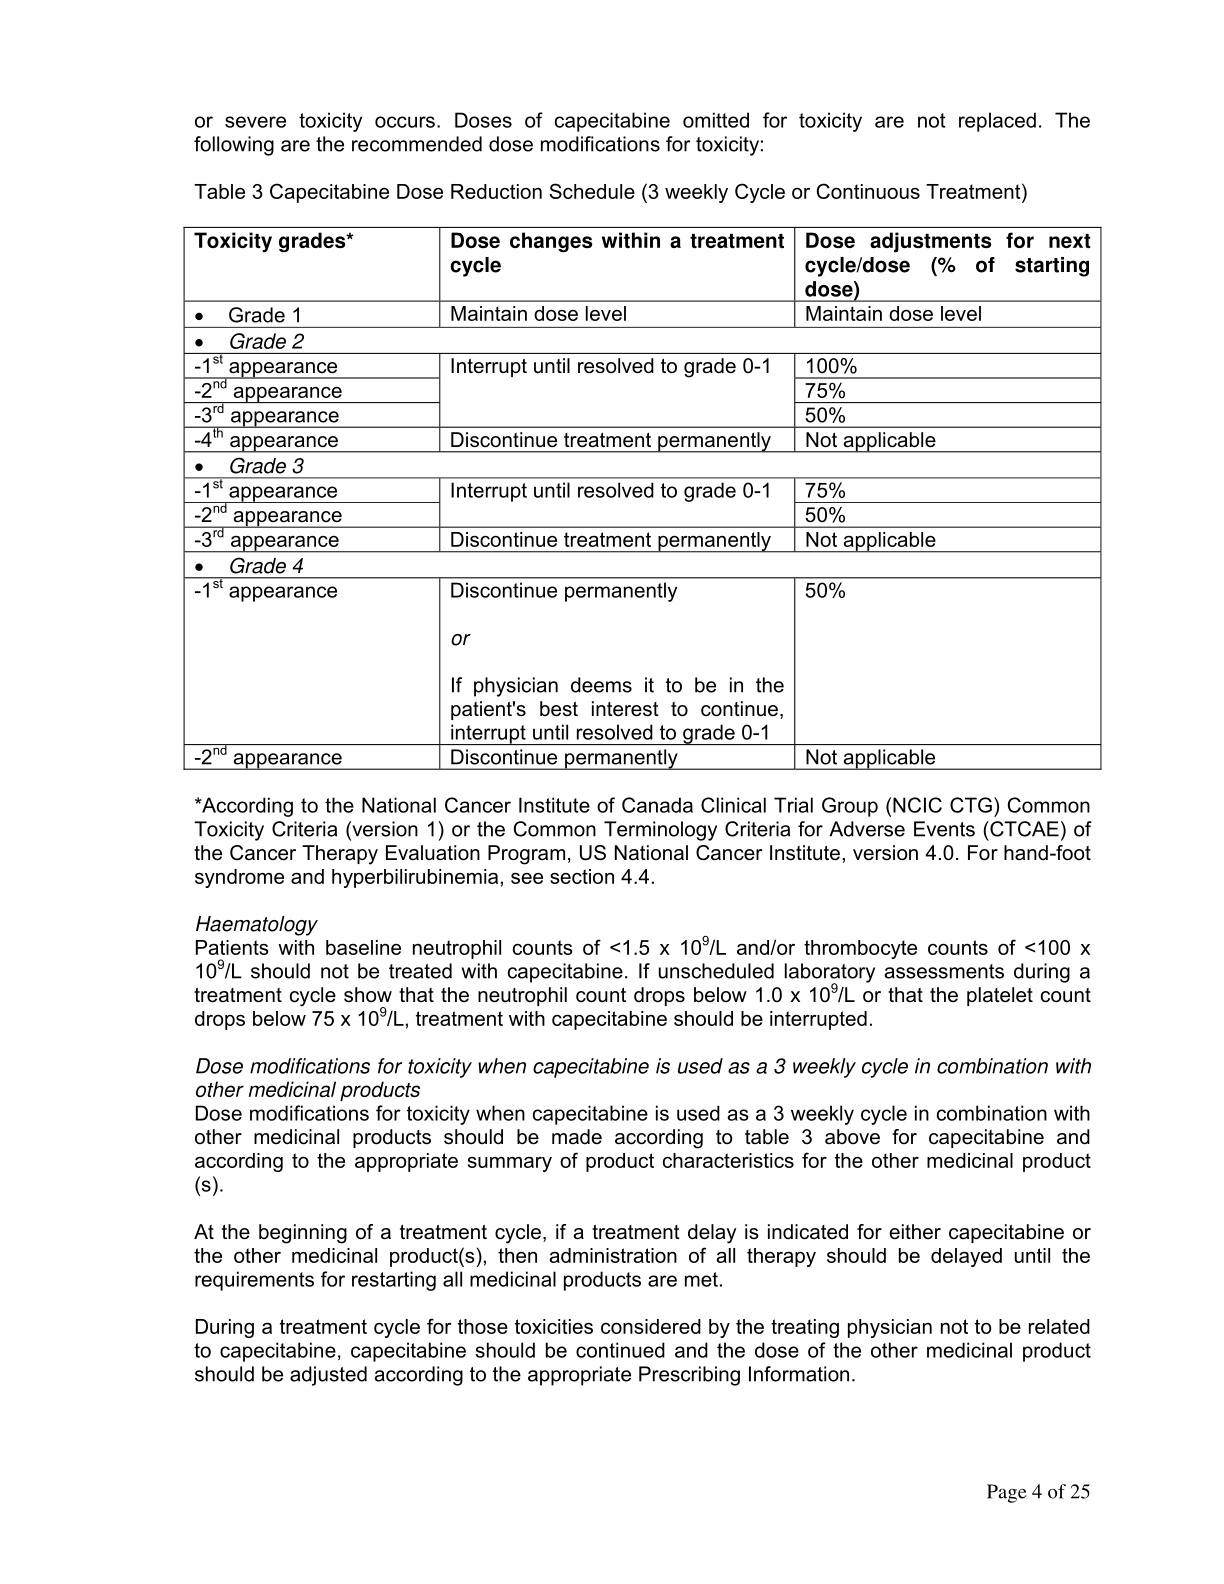merged_cells: (183, 226, 1103, 771)
